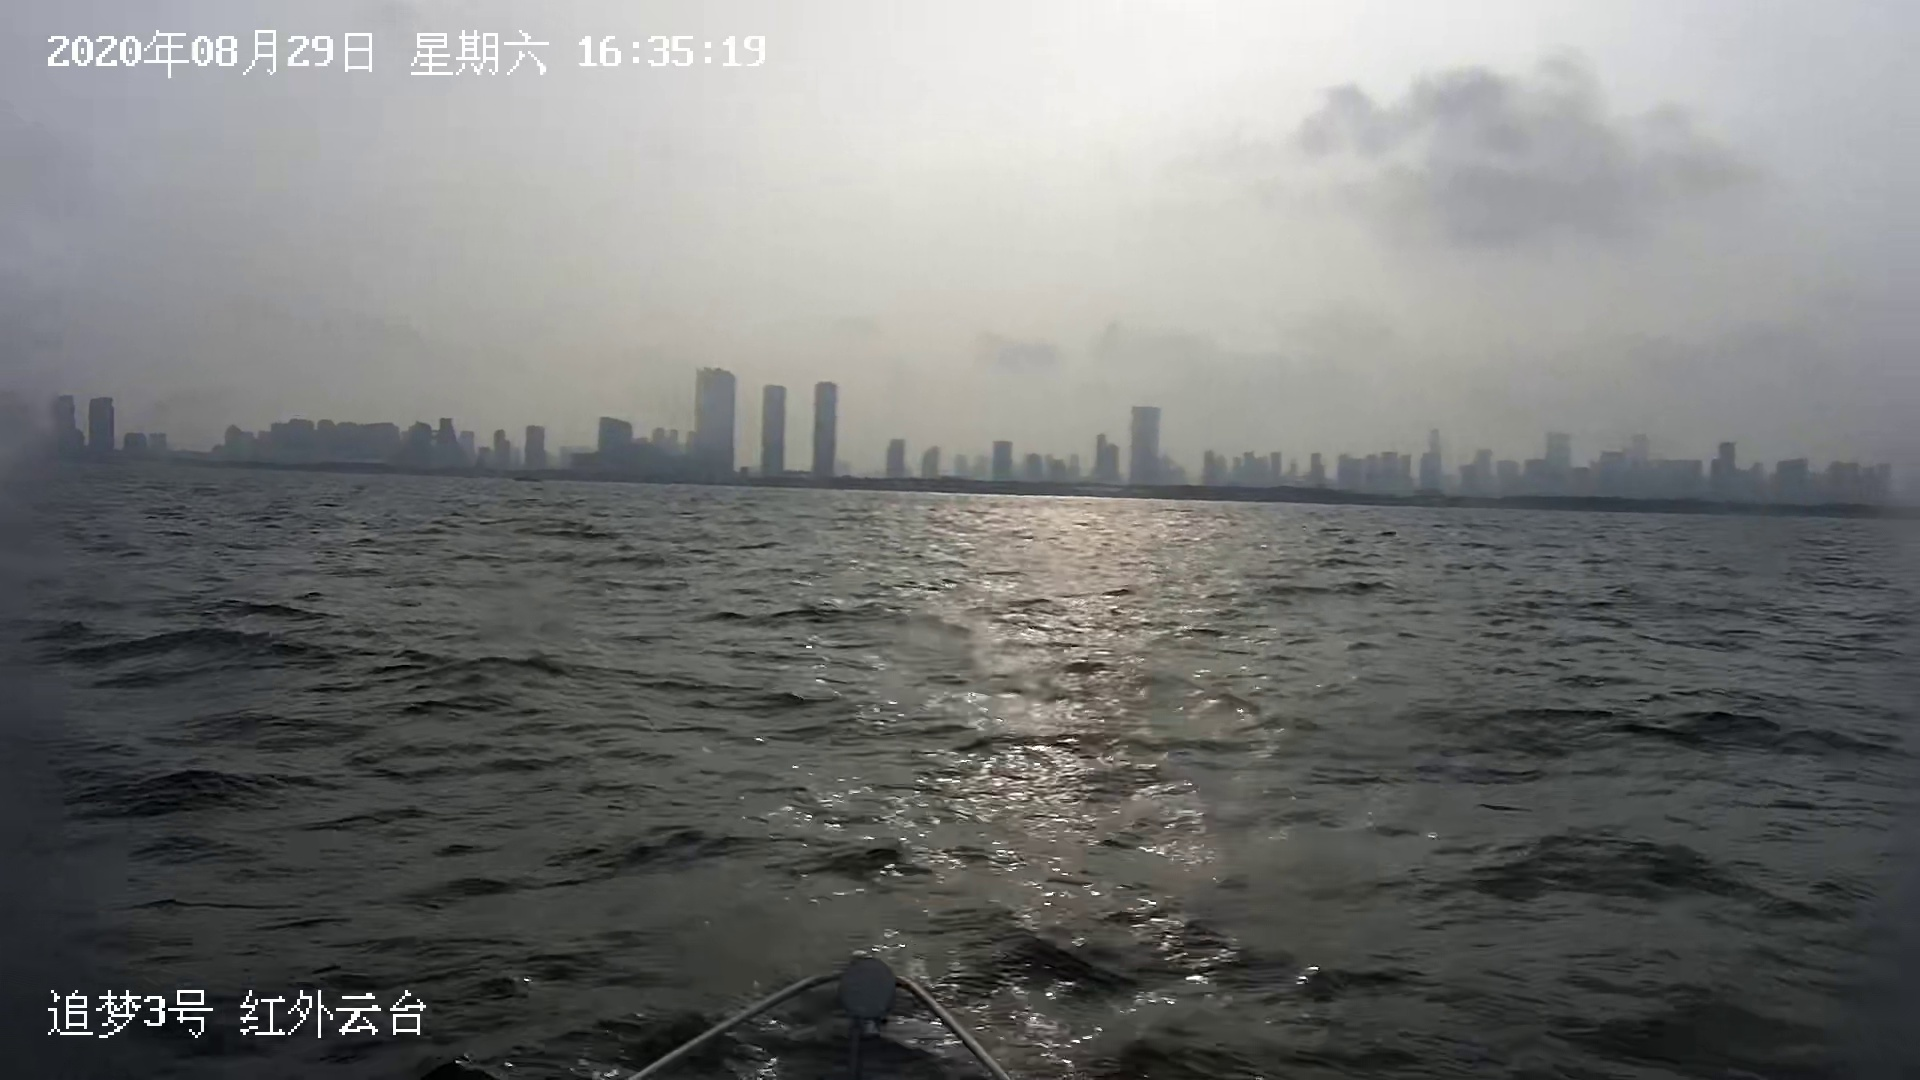coast: (26, 363, 1920, 526)
